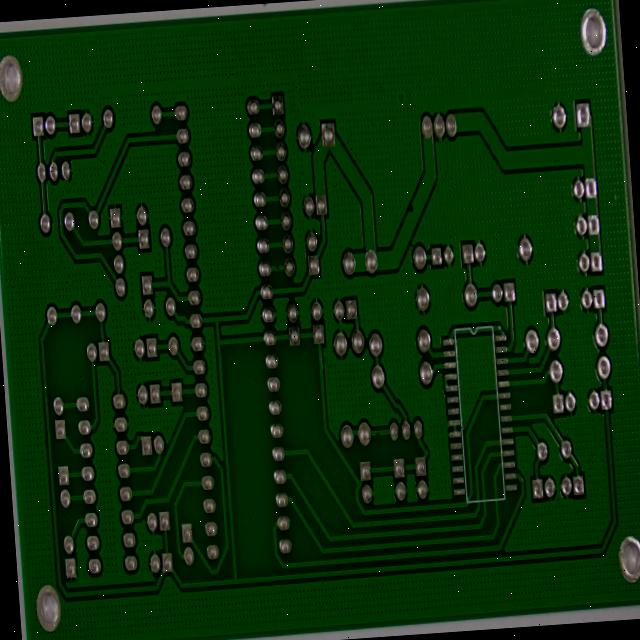mouse_bite: (394, 240, 410, 270), (255, 318, 267, 339), (365, 523, 375, 541)
